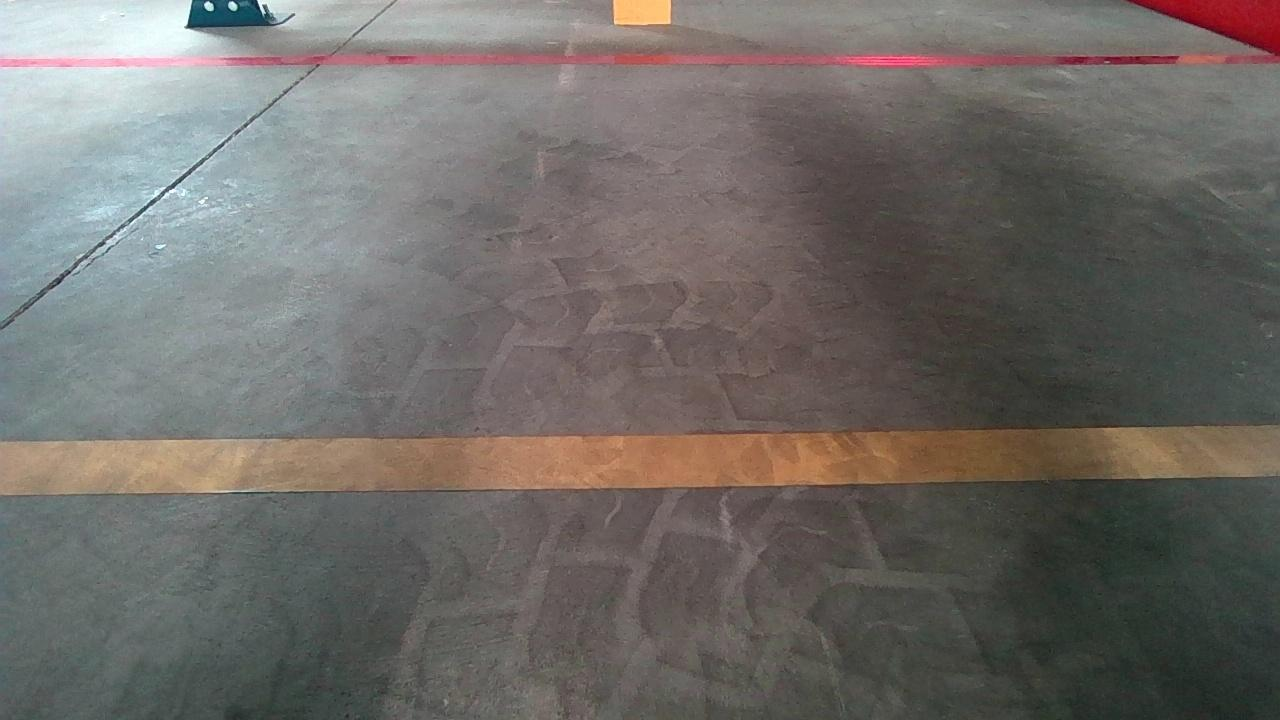orange_strip: (612, 0, 674, 27)
red_line: (22, 47, 1242, 83)
yellow_line: (0, 422, 1267, 495)
